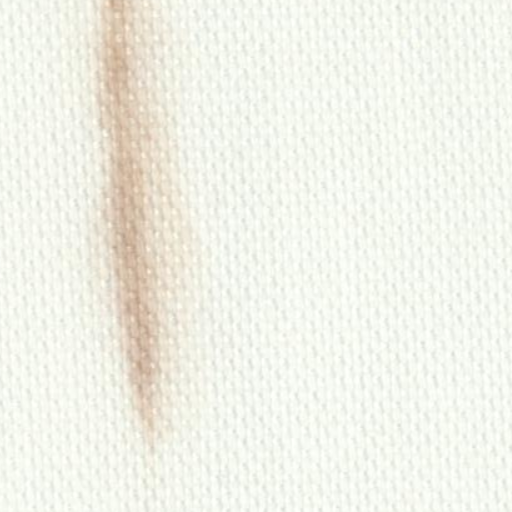WuZi: (78, 2, 216, 462)
